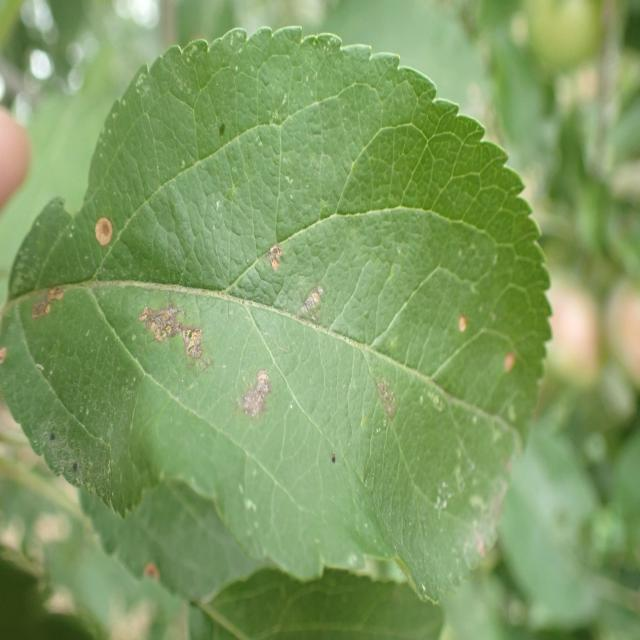frog-eye-leaf-spot: (0, 23, 554, 602)
